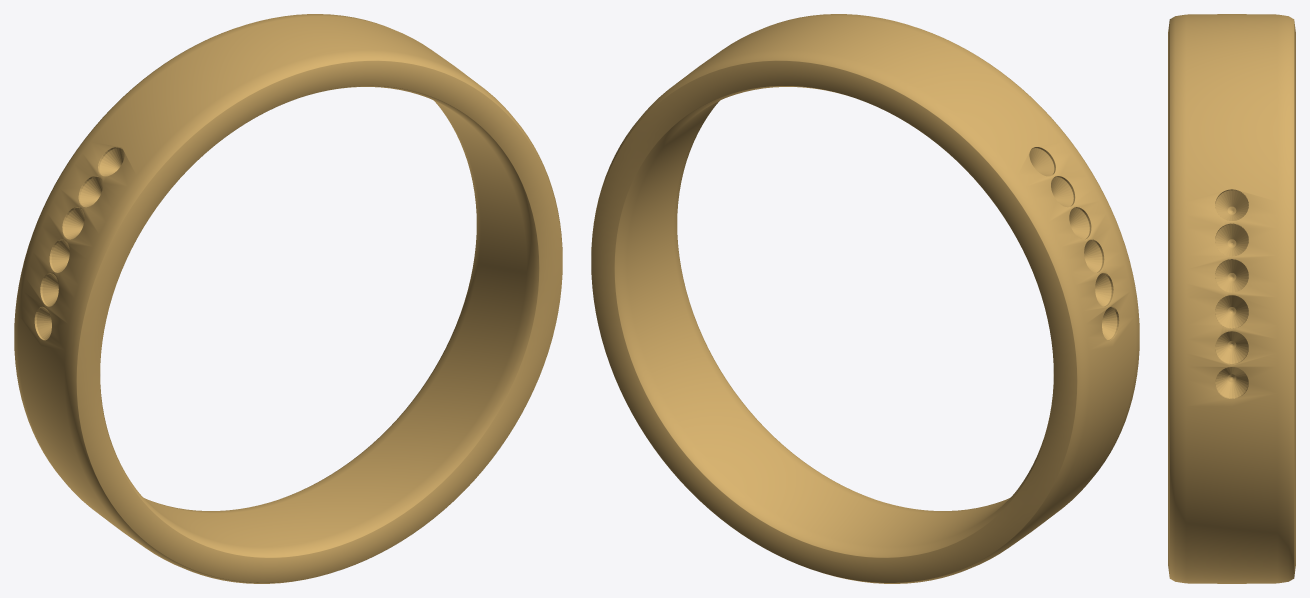
File: wide-micro-pave-head.glb
3 renders of one model, left to right at view 1: azimuth 30°, elevation 25°; view 2: azimuth 150°, elevation 25°; view 3: azimuth 270°, elevation 25°, orthographic.
Parts seen in each view (by area): view 1: Band; view 2: Band; view 3: Band.
Boxes of the visible parts, x1=… form: Band: x1=14, y1=14, x2=562, y2=583; Band: x1=591, y1=14, x2=1139, y2=583; Band: x1=1168, y1=14, x2=1295, y2=583.
Bounding box in the file's own units: 19.6 × 19.6 × 4.4.
